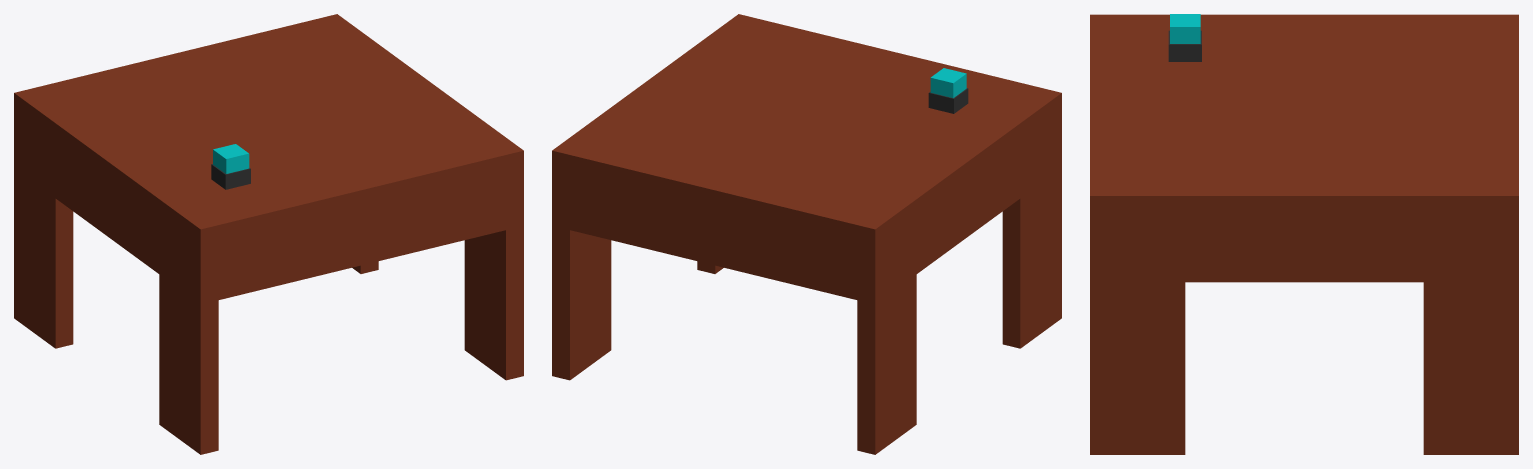
The model's file is hanoi_world_2_boxes.dae.
3 views of the same model, side by side, from view 1: azimuth 30°, elevation 25°; view 2: azimuth 150°, elevation 25°; view 3: azimuth 270°, elevation 25° (orthographic). The views are drawn at different scales.
Visible parts, largest first — view 1: base (×6); view 2: base (×6); view 3: base (×5).
Boxes of the visible parts, x1,y1,x2,y2 form: base (×6): (14, 14, 523, 454); base (×6): (552, 14, 1061, 454); base (×5): (1090, 14, 1518, 454).
Size of the model in its own units: 0.9 by 0.9 by 0.6801.
